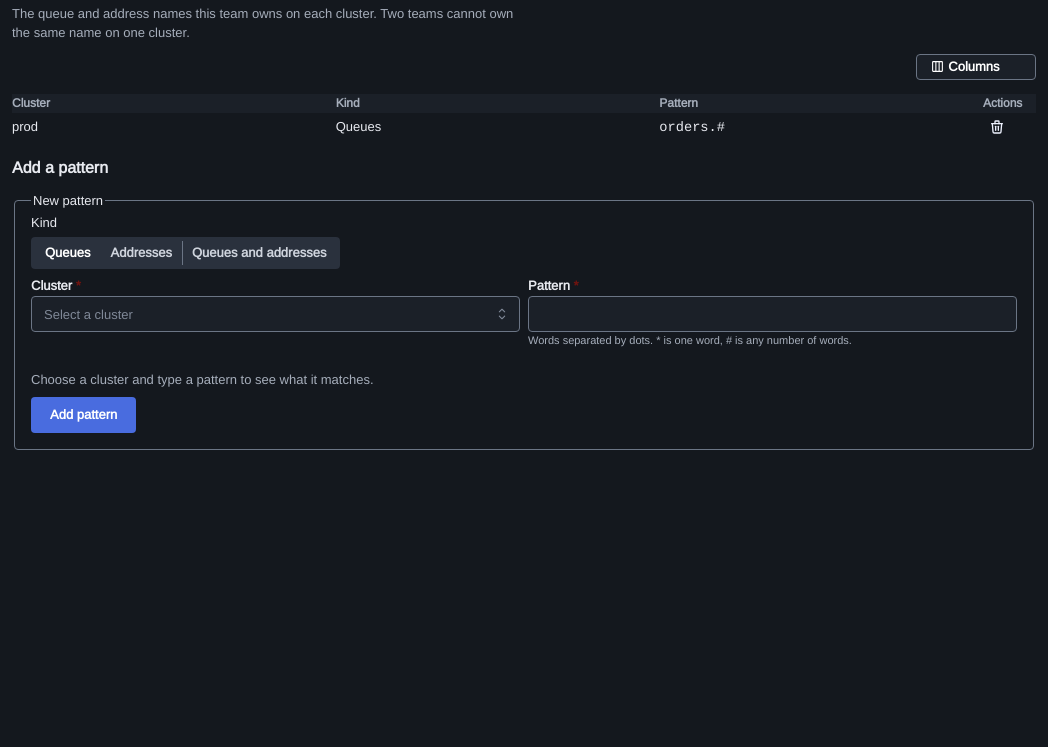
Test: TeamPatterns preview › says when a pattern matches nothing yet
Click the dropdown labelled "Cluster *". click: (276, 314)
box: [31,296,520,332]
(page scrolled)
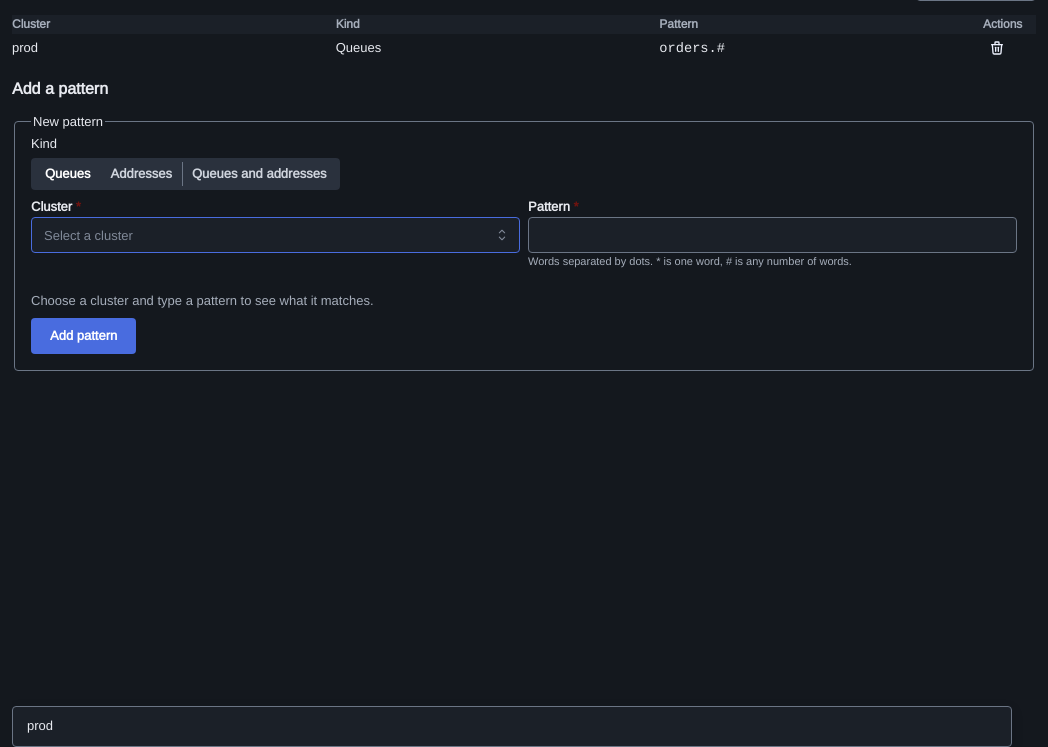
Click the option "prod". click: (40, 726)
box: [27,717,53,734]
(page scrolled)
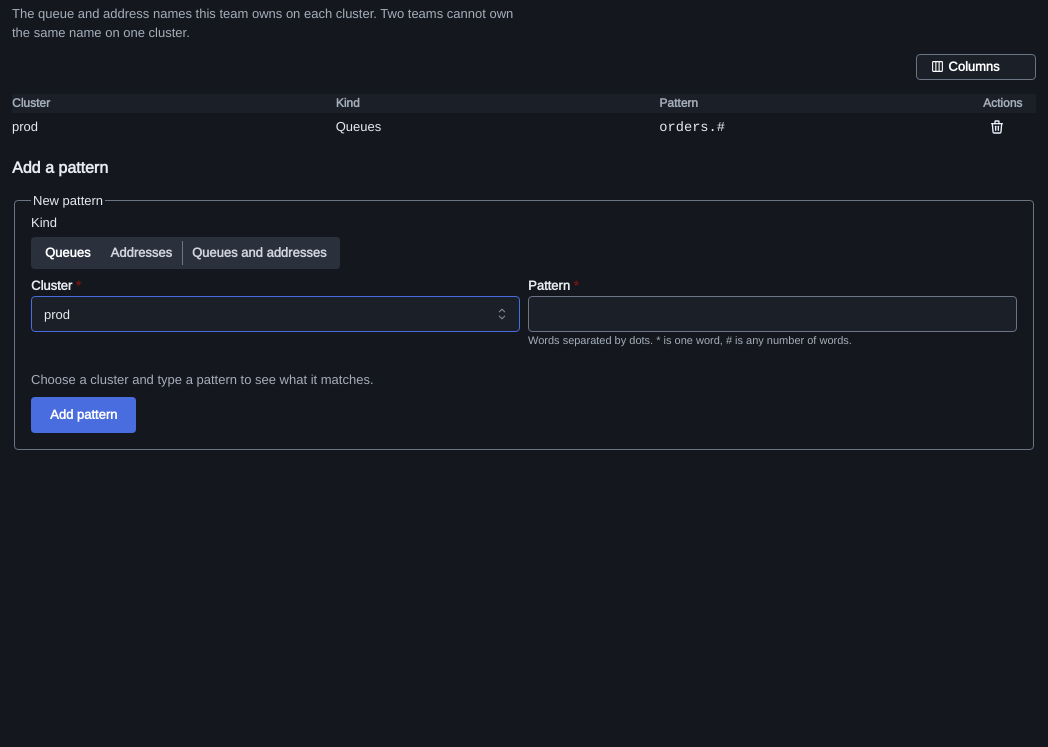
Type "later.#" into the field labelled "Pattern *". click: (772, 314)
box: [528,296,1017,332]
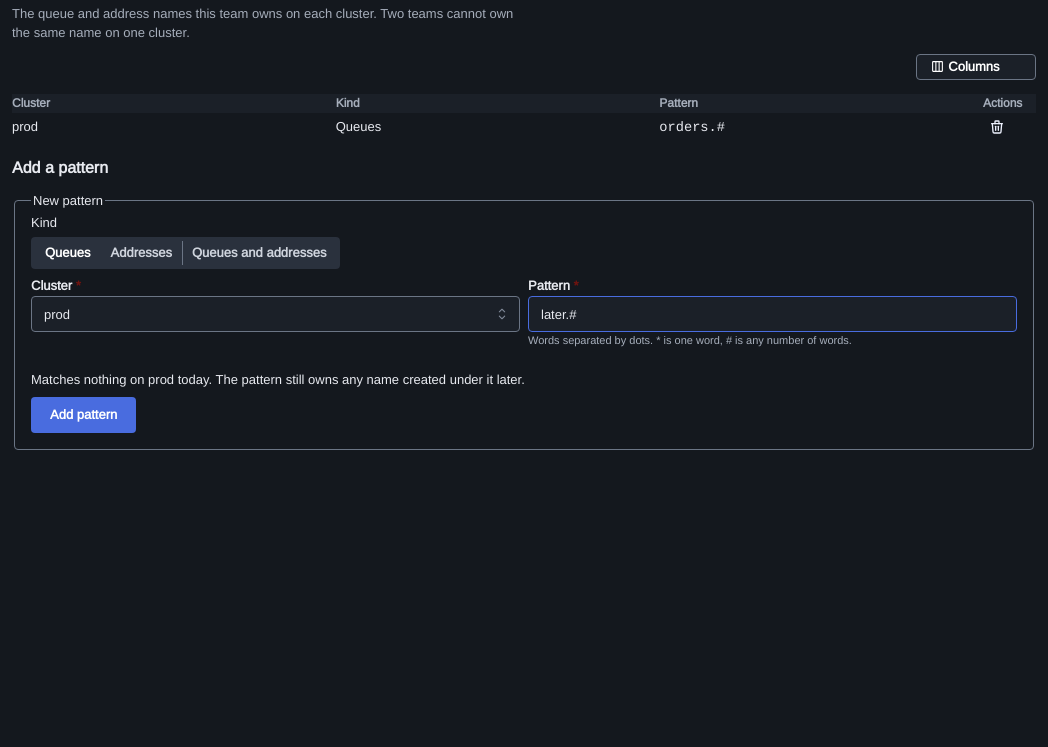
Check: the text "Matches nothing on prod today" is shown, box [31,371,525,388]
